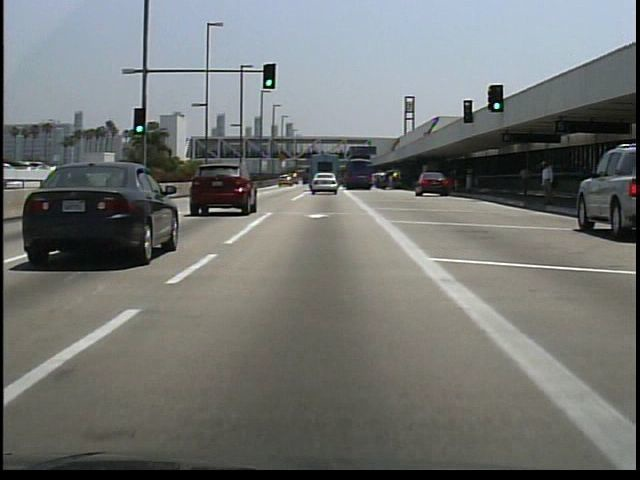person: (538, 157, 558, 210), (513, 155, 534, 203)
